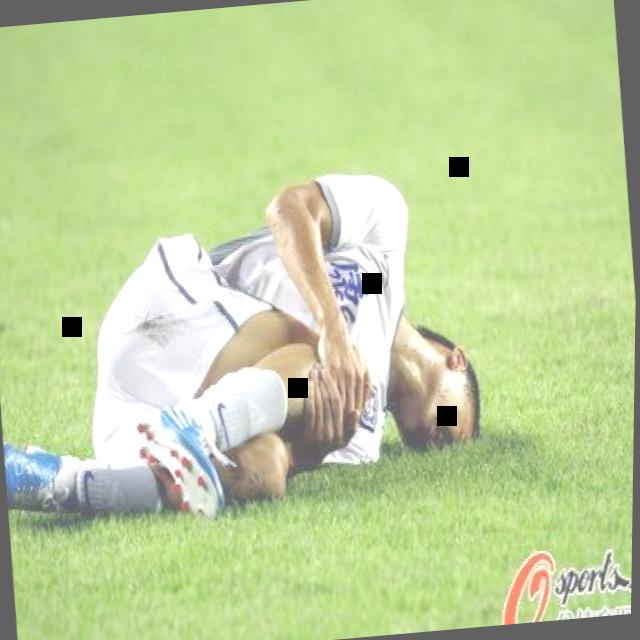Fall-Detected: (0, 137, 496, 551)
